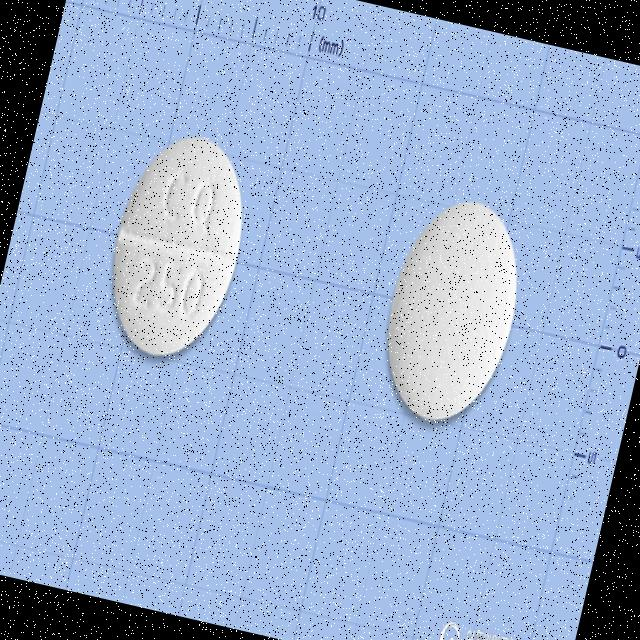Cq Robey: (368, 184, 538, 433), (94, 122, 262, 368)
